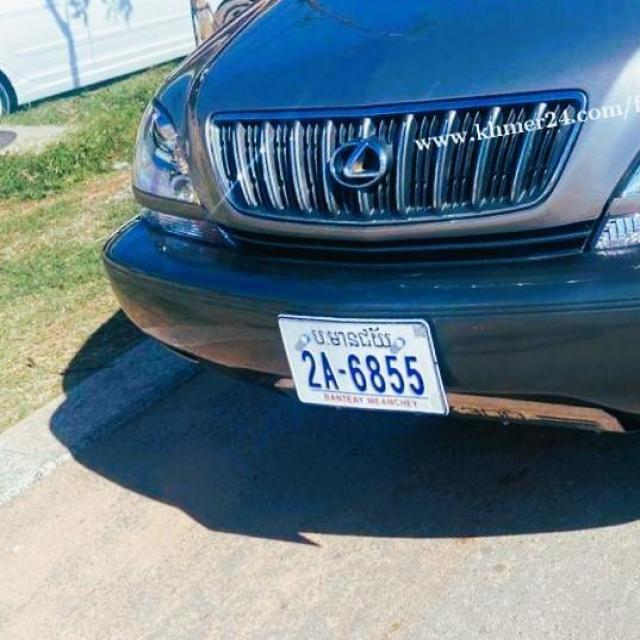Banteay_Meanchey: (304, 322, 398, 354)
